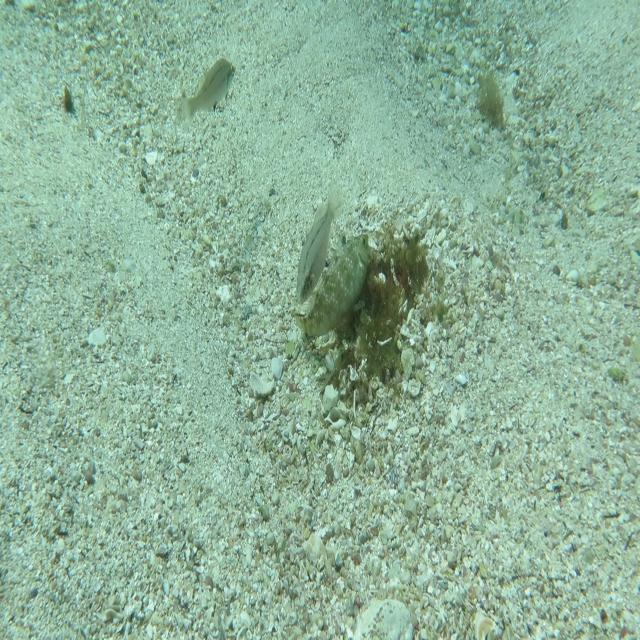BEND: (294, 223, 372, 353)
female: (295, 177, 349, 306), (173, 56, 238, 137)
nest: (312, 206, 448, 426)
